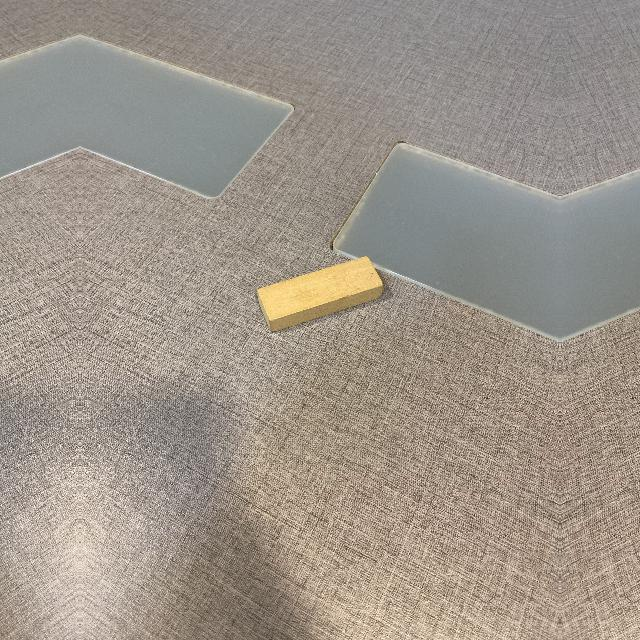jenga: (257, 257, 384, 332)
